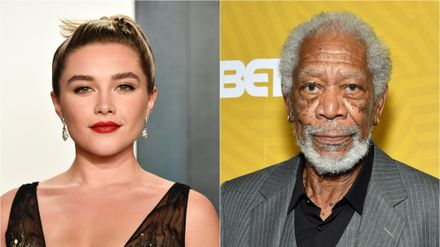person: (2, 14, 213, 247)
